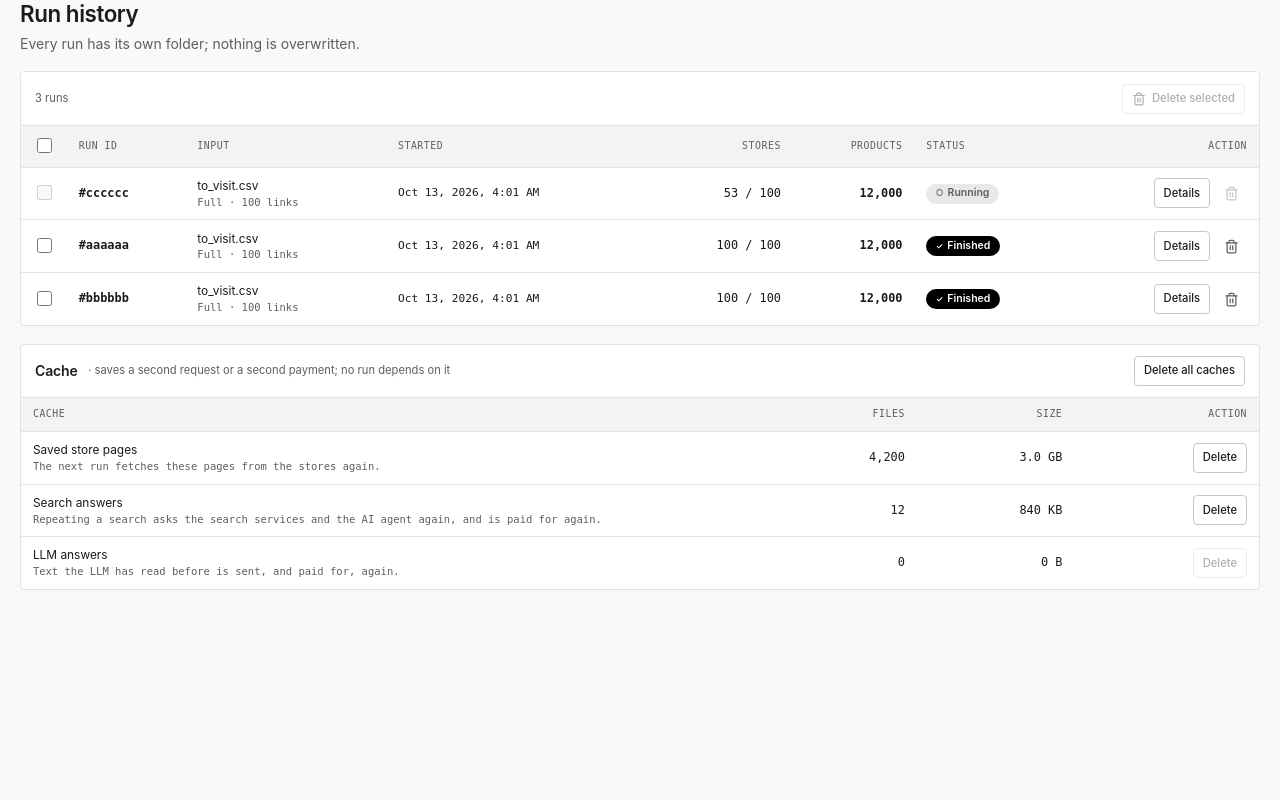
Test: History: a server started before the code changed › says to restart it, once, instead of one error per run
Click the checkbox named "Select all runs" at x=44, y=145, box [37,138,52,153]
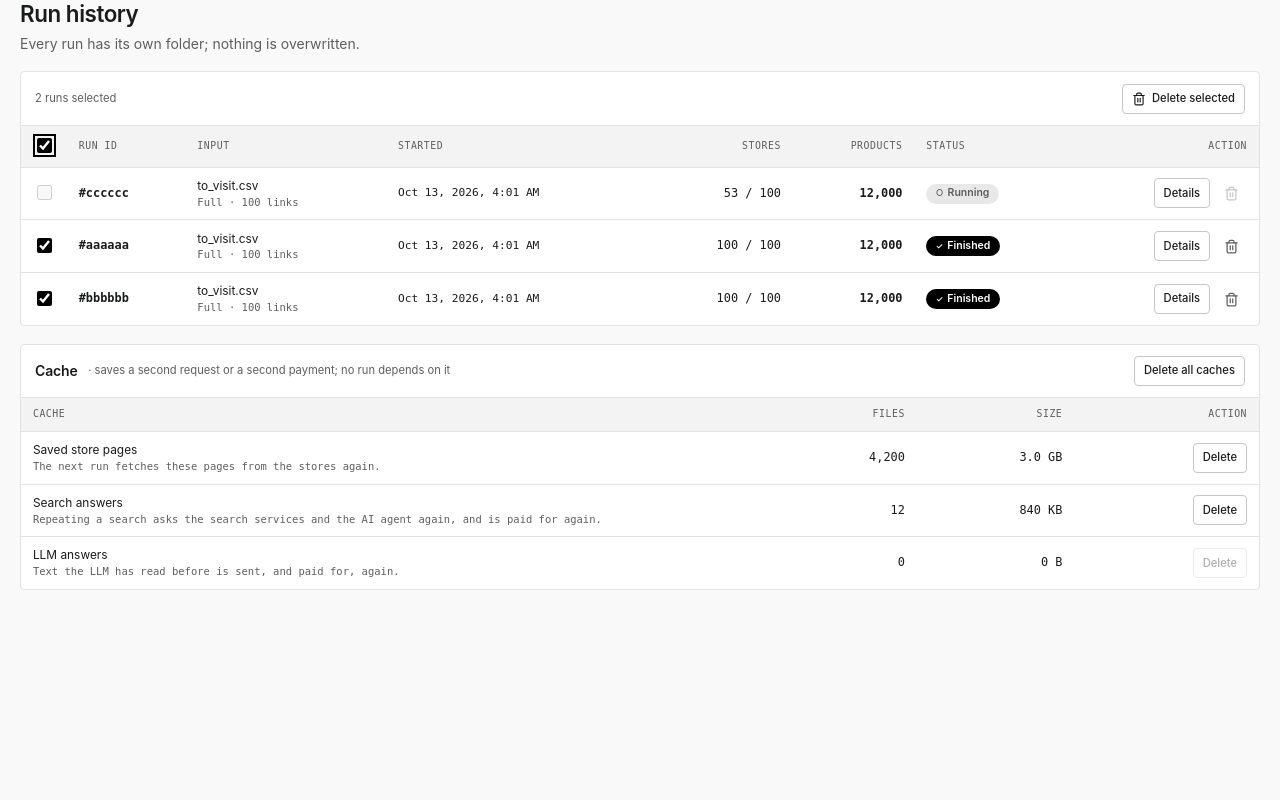
Click the button "Delete selected" at x=1183, y=99, box [1122,84,1245,114]
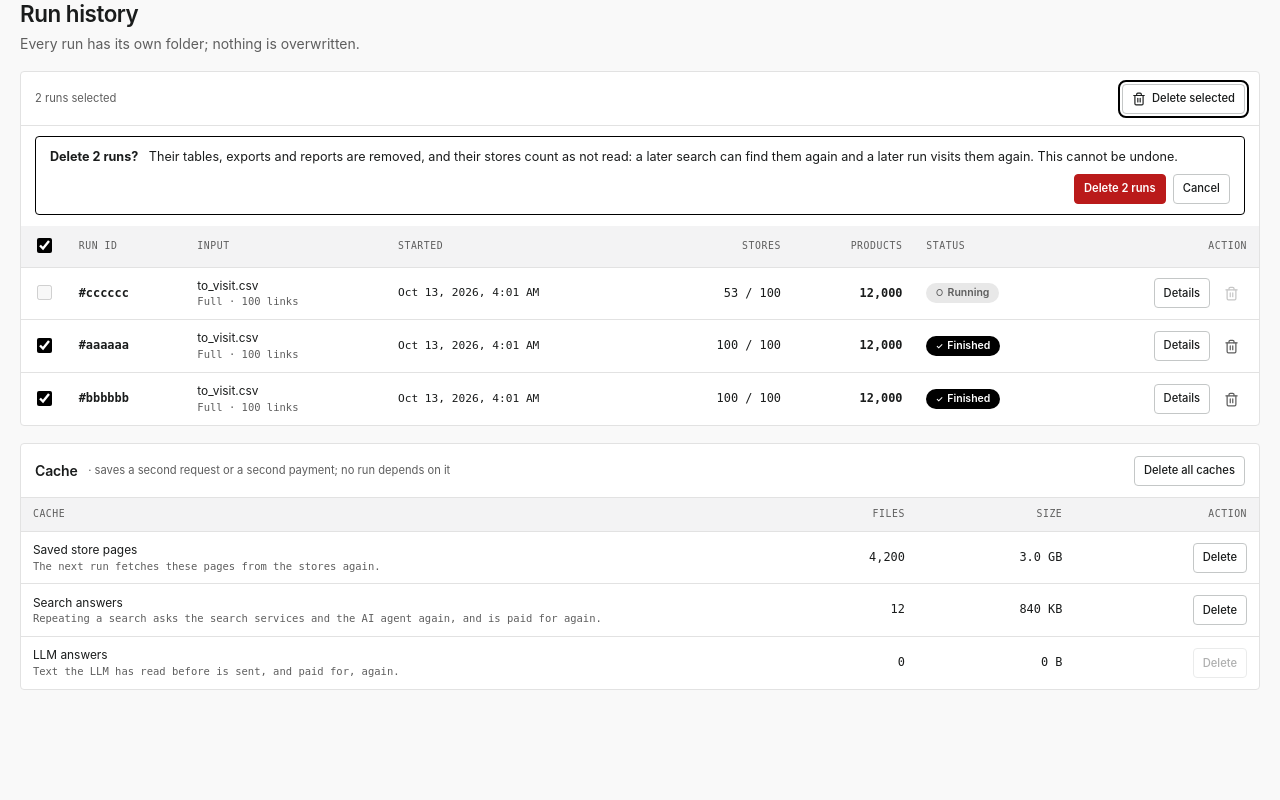
Click the button "Delete 2 runs" at x=1120, y=189, box [1074,174,1166,204]
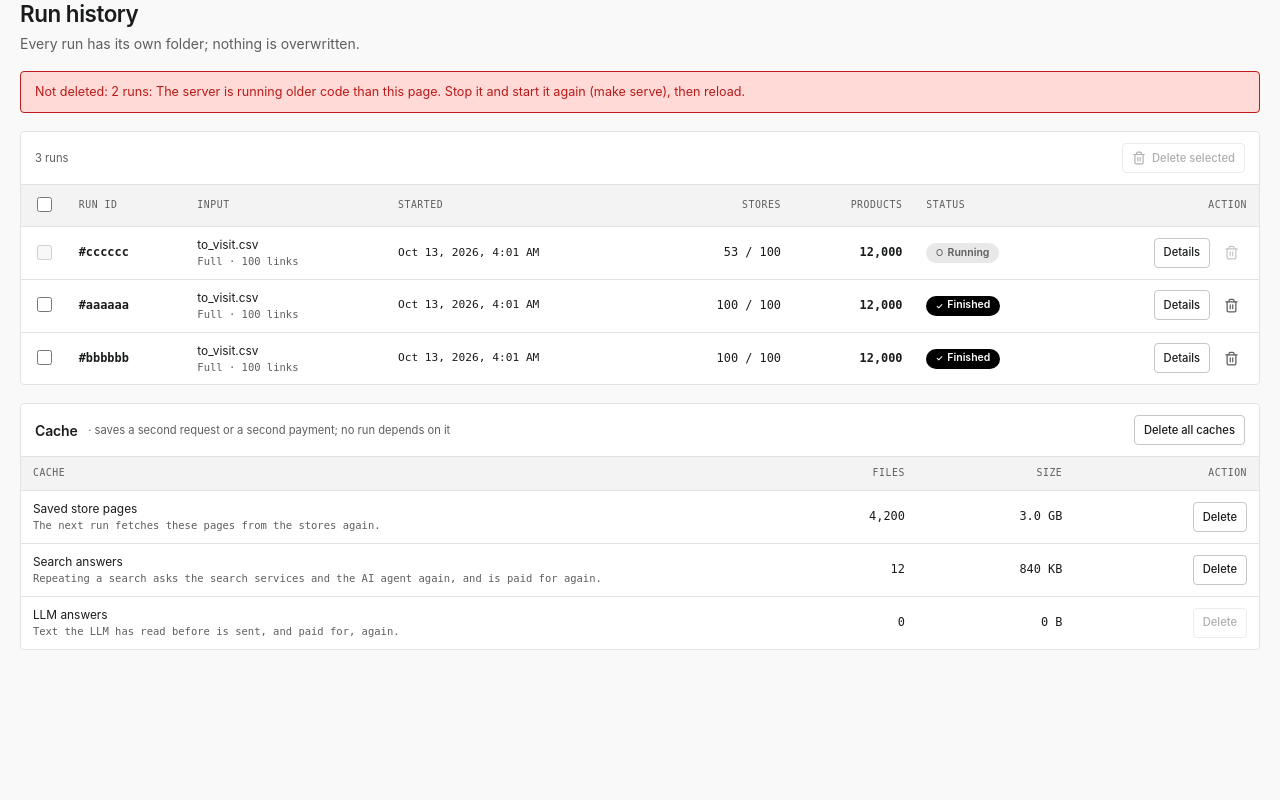
Result: the message shows "Not deleted: 2 runs: The server is running older code than this page. Stop it and start it again (make serve), then reload." at [35,84,745,99]
